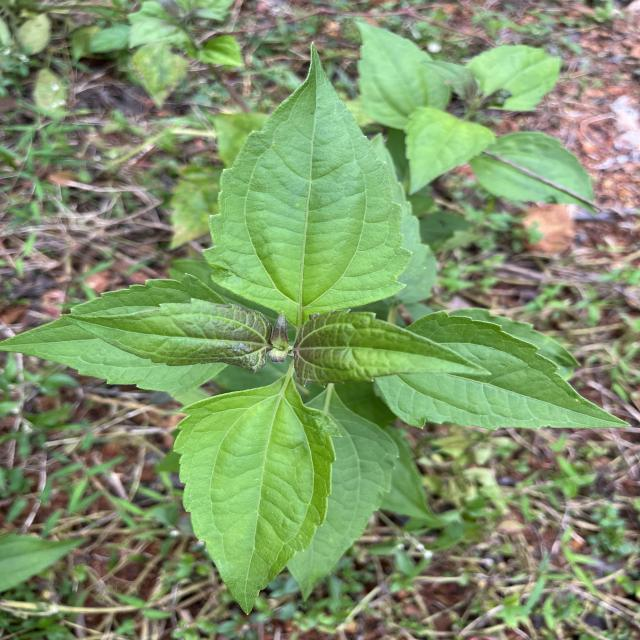Chromolaena odorata: (196, 35, 418, 328), (166, 374, 346, 620), (59, 291, 276, 378)
